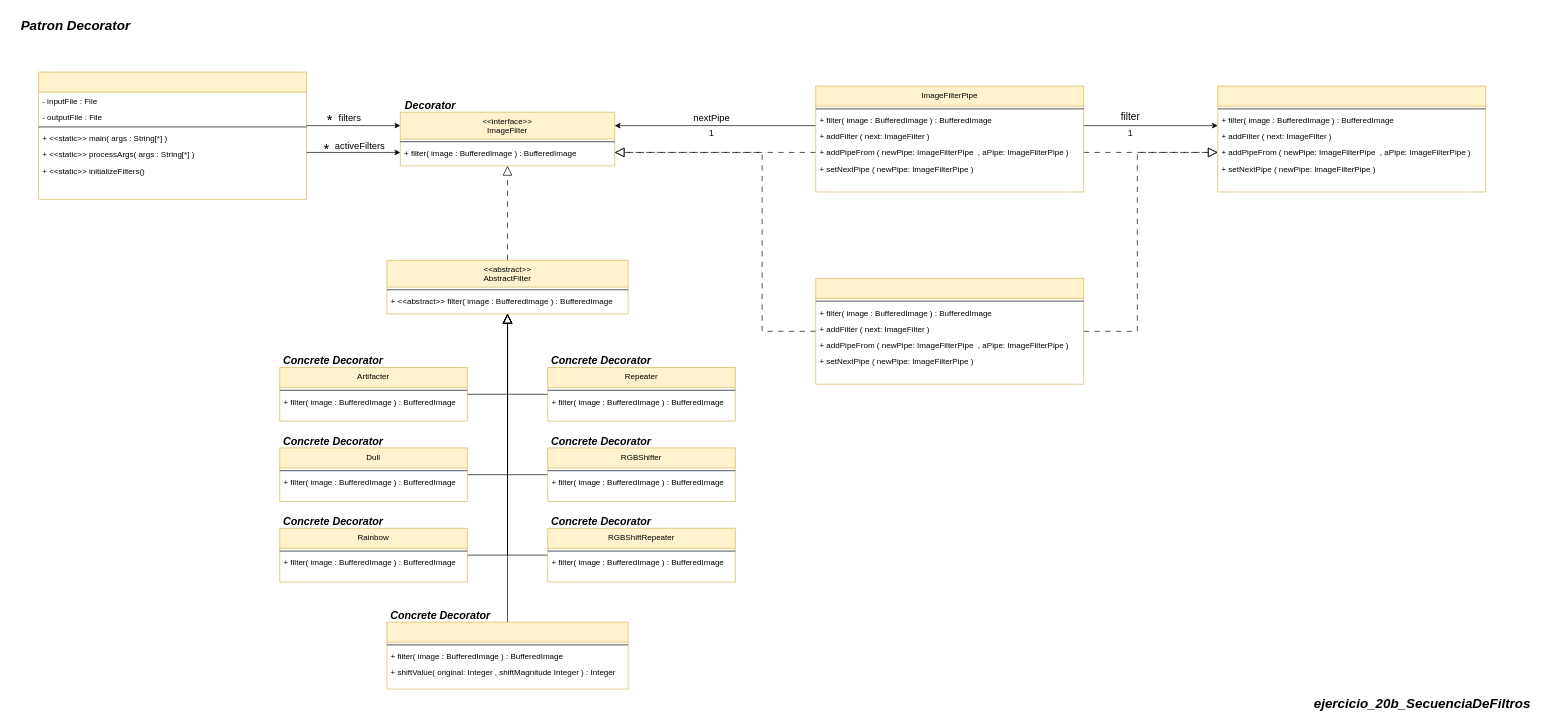
Image size: 1550x727. Some labels were removed from this diagram. The shapes that lost their labels are listed below. From the top down, each one's box as (x1, y1, x2, y2) in pixels, then its label:
(38, 71, 307, 199): PNGFilterLauncher
(1217, 85, 1486, 192): ImageFilterPipeInterface
(815, 278, 1084, 384): EndPipe
(386, 621, 628, 689): Monochrome
